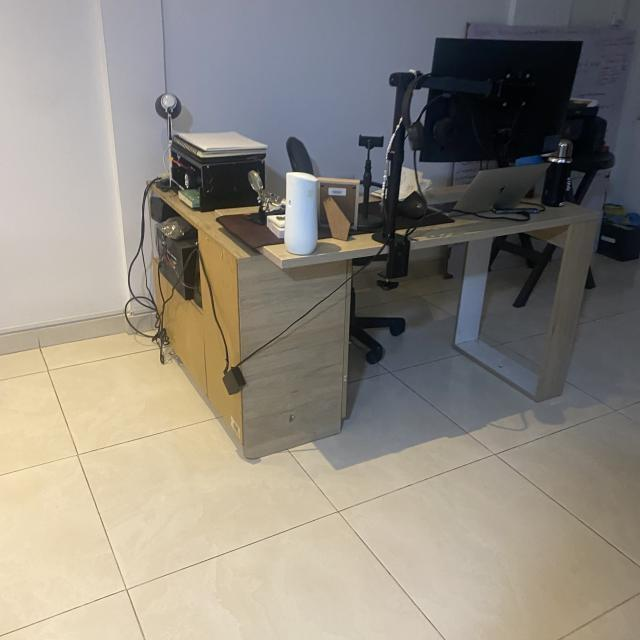obstacle: (100, 55, 640, 467)
